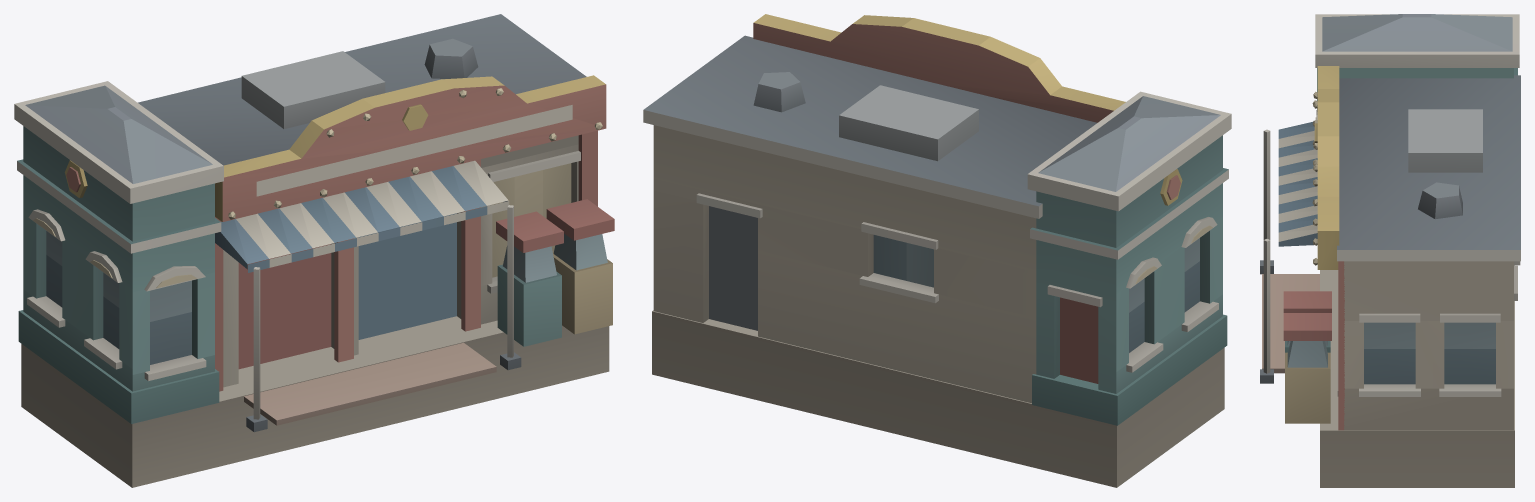
File: arcade.lod1.glb
3 views of the same model, side by side, from view 1: azimuth 30°, elevation 25°; view 2: azimuth 150°, elevation 25°; view 3: azimuth 270°, elevation 25° (orthographic). The views are drawn at different scales.
Size of the model in its own units: 8.65 by 5.48 by 4.54.
